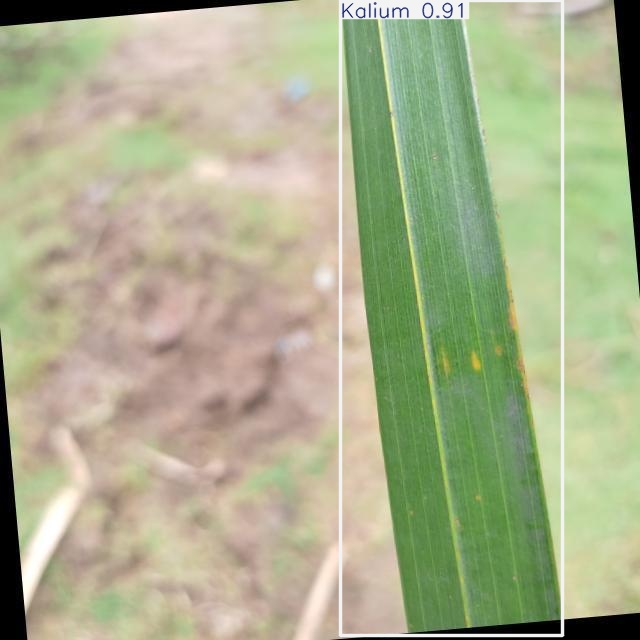Kalium: (340, 0, 563, 636)
